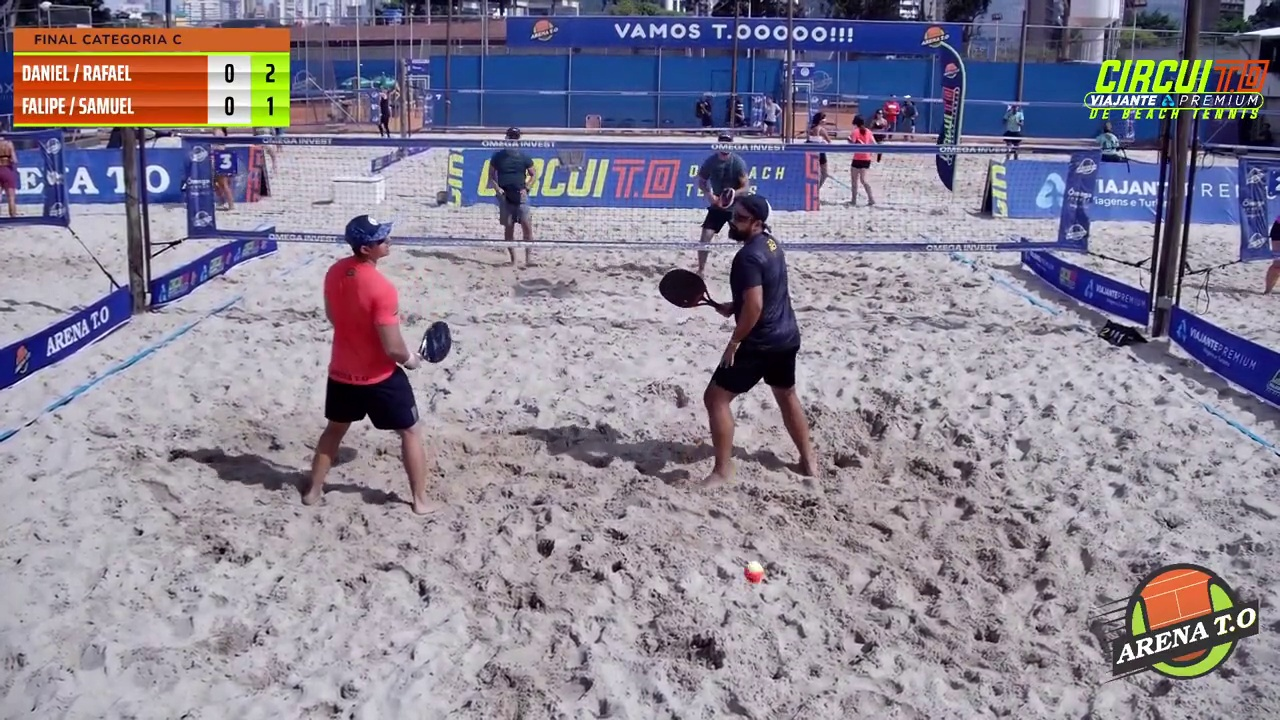court_line: (530, 0, 674, 463), (634, 0, 796, 363)
